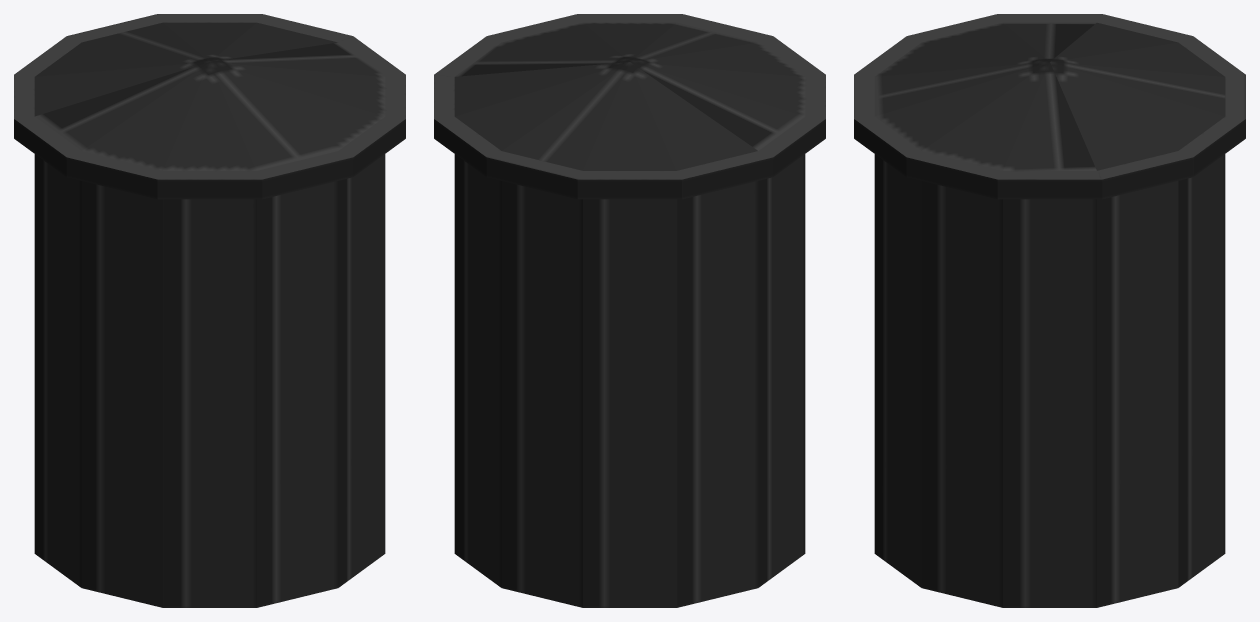
File: bruascar.fbx
3 renders of one model, left to right at view 1: azimuth 30°, elevation 25°; view 2: azimuth 150°, elevation 25°; view 3: azimuth 270°, elevation 25°, orthographic.
Parts seen in each view (by area): view 1: cylinder; view 2: cylinder; view 3: cylinder.
Boxes of the visible parts, x1,y1,x2,y2 form: cylinder: (14, 14, 405, 607); cylinder: (434, 14, 825, 607); cylinder: (854, 14, 1245, 607).
Size of the model in its own units: 112 by 148 by 112.
1 material, 1 textured.
